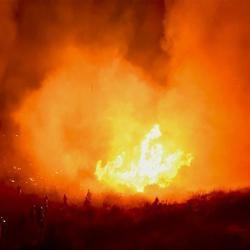fire: (107, 143, 175, 188)
